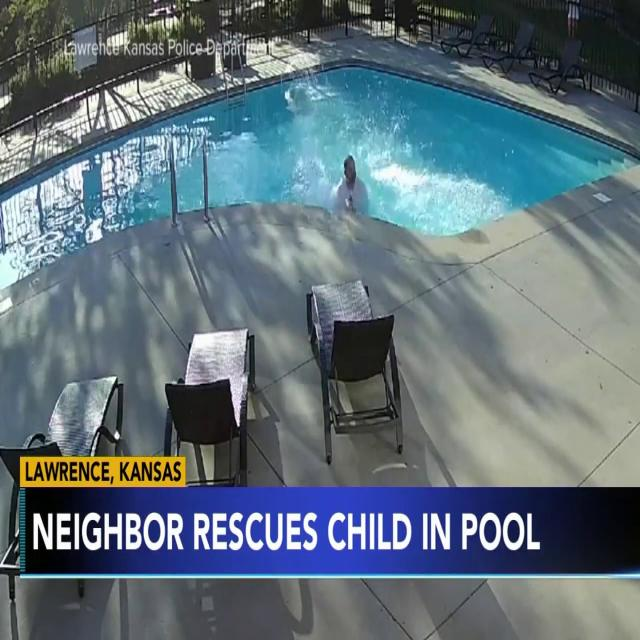adult: (333, 153, 372, 218)
